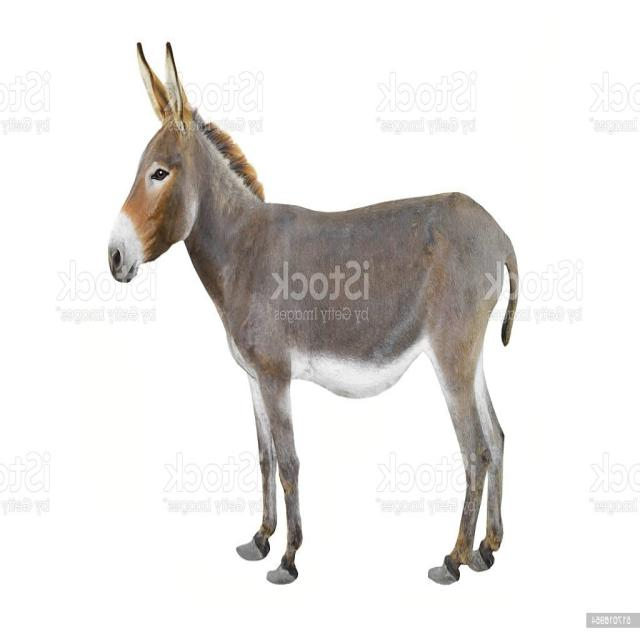donkey: (109, 42, 519, 584)
